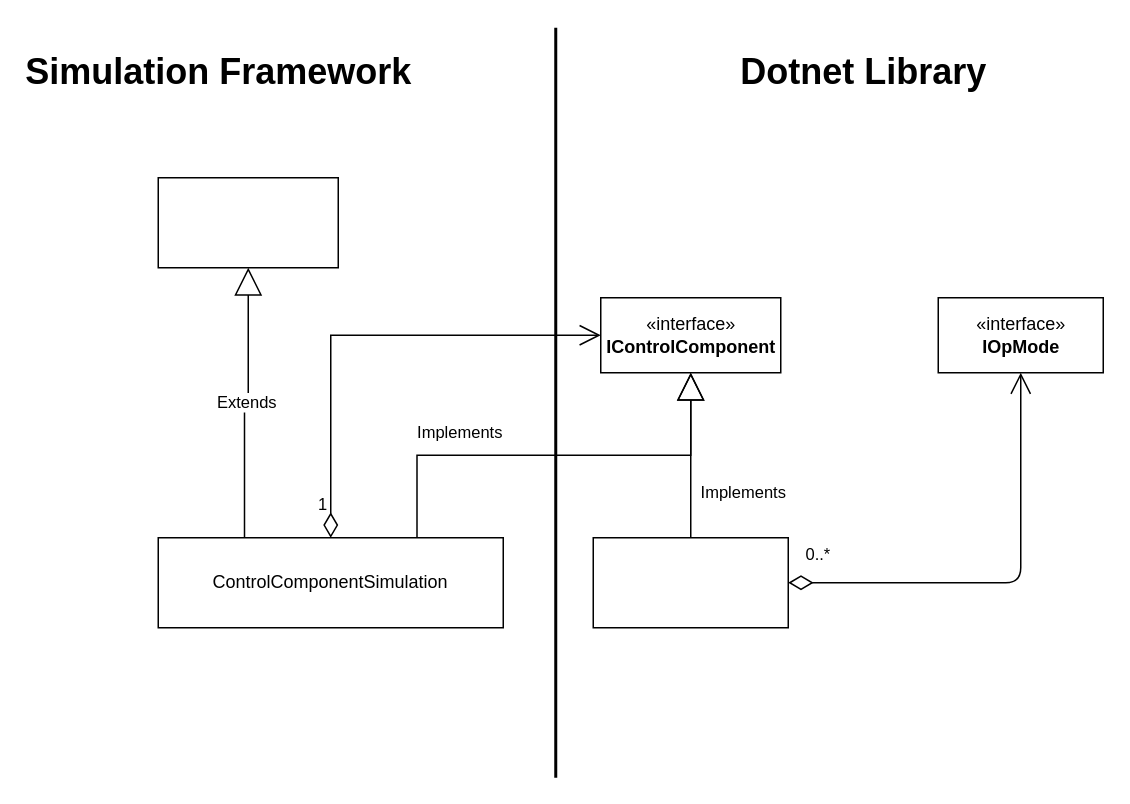
Some shapes in this 1130 by 804 pixel diagram are drawn without their labels. Each missing label, with the centre of its shape:
"ControlComponent" goes at (x=690, y=582).
"SimulationBase" goes at (x=247, y=222).
